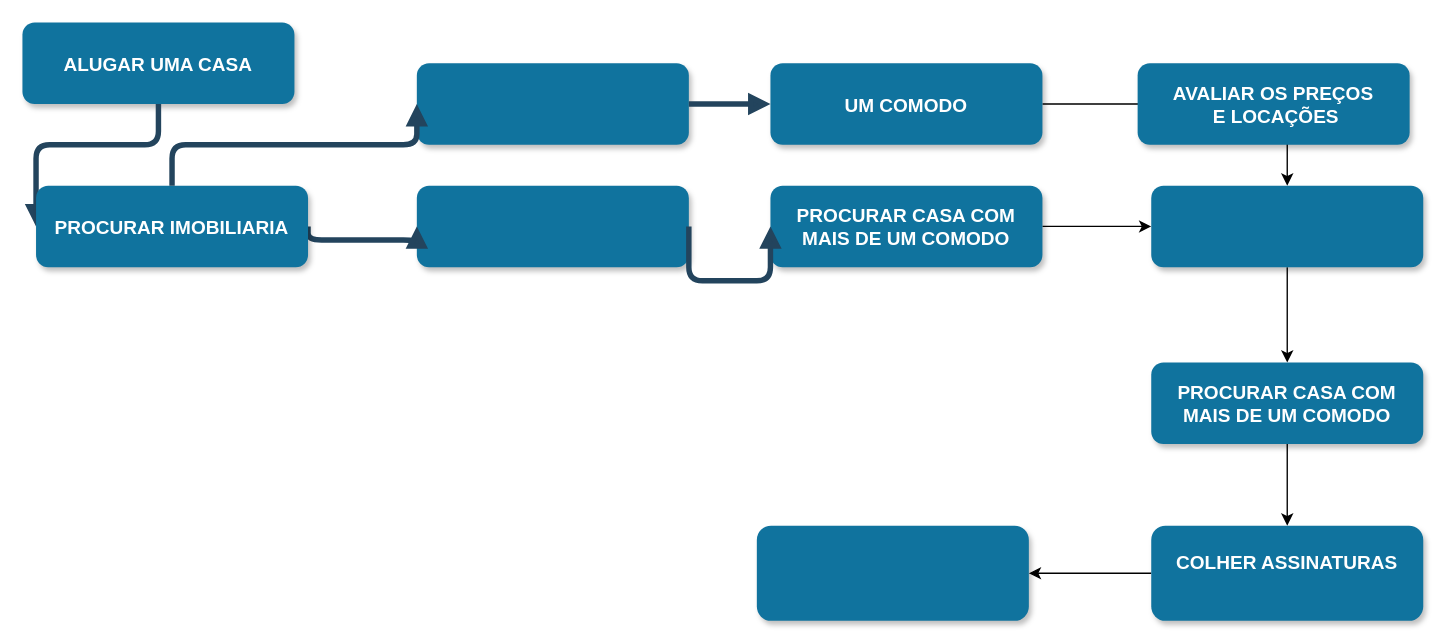
The diagram is 1446 pixels wide and 643 high, and some of its shapes have lost their labels. The centre of each missing label's shape, as x and y in pixels:
"2 OU MAIS PESSOAS" belongs at point (553, 228).
"REGISTRAR NO CARTÓRIO E NA PREFEITURA" belongs at point (893, 575).
"SEPARA A DOCUMENTAÇÃO" belongs at point (1288, 228).
"SOZINHO" belongs at point (553, 105).
